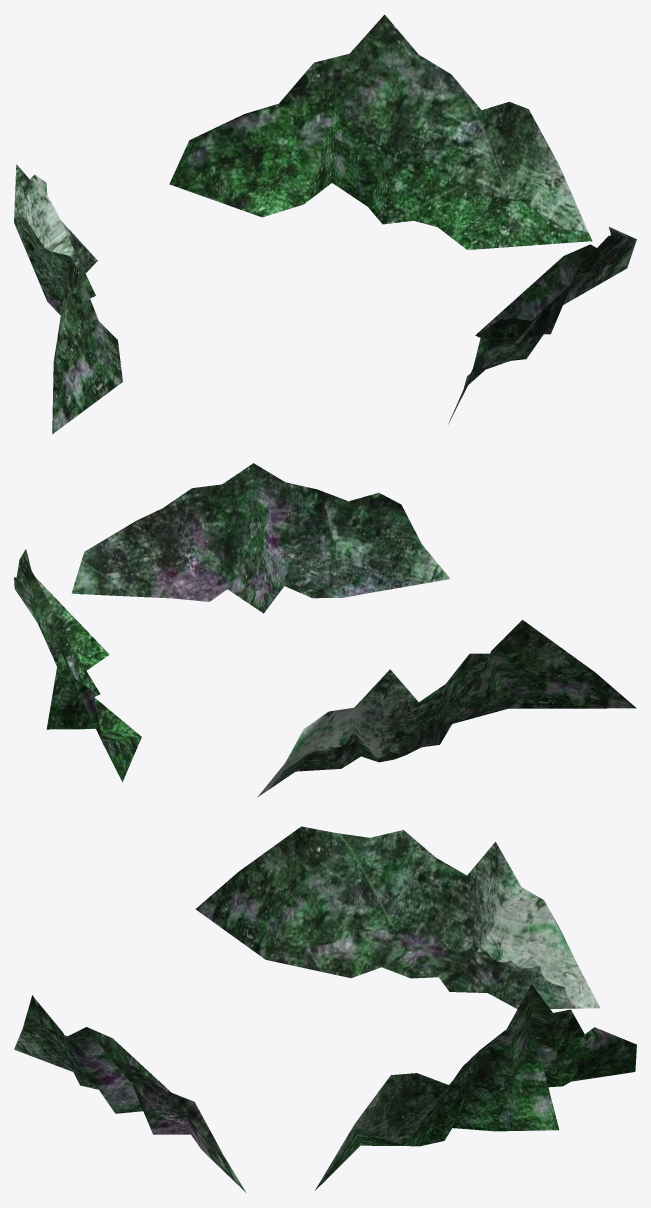
Rendered from hills.obj.
3 views of the same model, one above another, from view 1: azimuth 30°, elevation 25°; view 2: azimuth 150°, elevation 25°; view 3: azimuth 270°, elevation 25° (orthographic). The views are drawn at different scales.
Parts seen in each view (by area): view 1: Torus.002; view 2: Torus.002; view 3: Torus.002.
Boxes of the visible parts, box(x1,y1,x2,y2) form: Torus.002: box(14, 14, 636, 433); Torus.002: box(14, 463, 636, 797); Torus.002: box(14, 826, 636, 1192).
Bounding box in the file's own units: 25.59 × 6.89 × 23.7.
